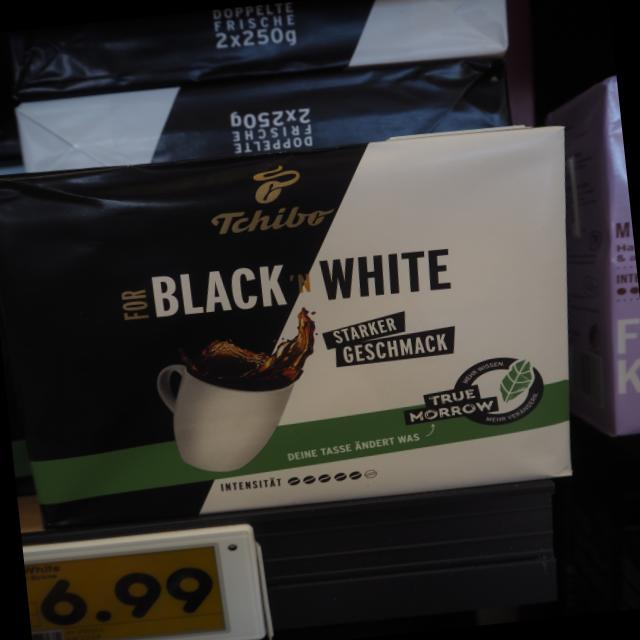BW Gemahlen: (0, 117, 578, 539)
